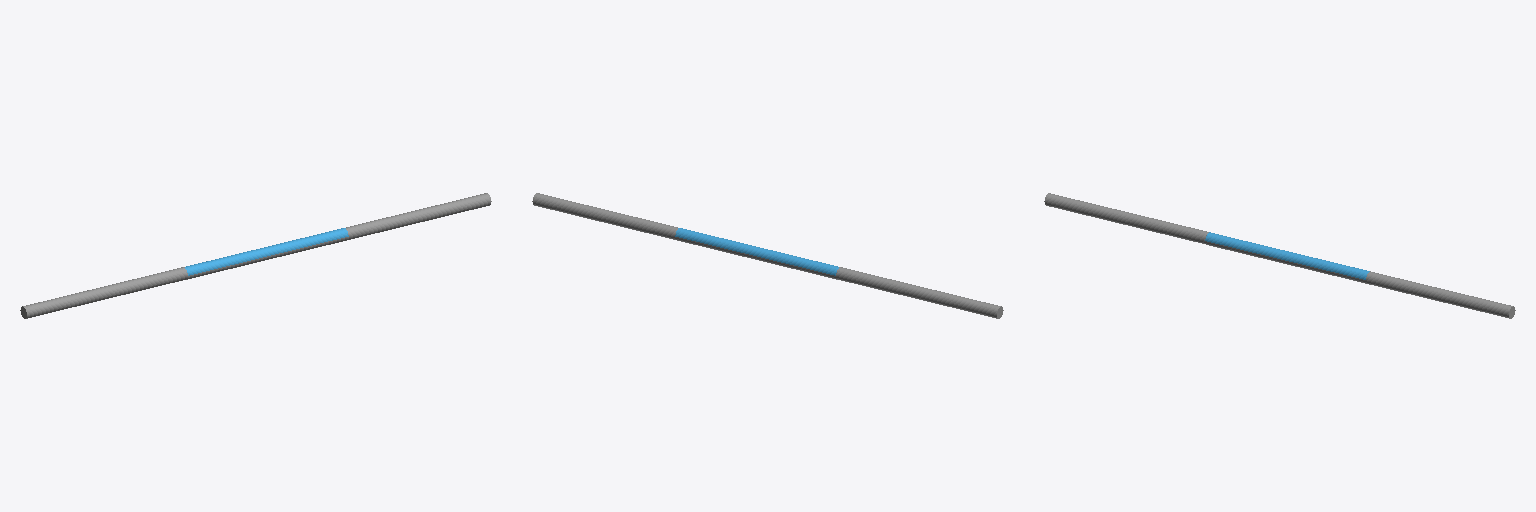
The robot description file, URDF, robot "duplicate_but_same_materials":
<?xml version="1.0" ?>

<!--
Defines a URDF model in which two links have the same material definition. This
should NOT be a problem.
-->

<robot name="duplicate_but_same_materials" xmlns:xacro="http://ros.org/wiki/xacro">
  <link name="link1">
    <inertial>
      <mass value="0.00001"/>
      <inertia ixx="0.00001" ixy="0" ixz="0" iyy="0.00001" iyz="0" izz="0.00001"/>
    </inertial>
    <visual>
      <origin rpy="0 1.57 0" xyz=".01429 0 0"/>
      <geometry>
        <cylinder length=".02858" radius="0.001"/>
      </geometry>
      <material name="foo_color">
        <color rgba=".6353 .6353 .6353 1"/>
      </material>
    </visual>
    <visual>
      <origin rpy="0 1.57 0" xyz=".01429 0 0"/>
      <geometry>
        <cylinder length=".02858" radius="0.001"/>
      </geometry>
      <material name="bar_material">
        <texture filename="bar.png"/>
      </material>
    </visual>
    <visual>
      <origin rpy="0 1.57 0" xyz=".01429 0 0"/>
      <geometry>
        <cylinder length=".02858" radius="0.001"/>
      </geometry>
      <material name="foobar_material">
        <color rgba=".6353 .6353 .6353 1"/>
        <texture filename="foobar.png"/>
      </material>
    </visual>
  </link>

  <link name="link2">
    <inertial>
      <mass value="0.00001"/>
      <inertia ixx="0.00001" ixy="0" ixz="0" iyy="0.00001" iyz="0" izz="0.00001"/>
    </inertial>
    <visual>
      <origin rpy="0 1.57 0" xyz=".02699 0 0"/>
      <geometry>
        <cylinder length=".05398" radius="0.001"/>
      </geometry>
      <material name="foo_color">
        <color rgba=".6353 .6353 .6353 1"/>
      </material>
    </visual>
    <visual>
      <origin rpy="0 1.57 0" xyz=".01429 0 0"/>
      <geometry>
        <cylinder length=".02858" radius="0.001"/>
      </geometry>
      <material name="bar_material">
        <texture filename="bar.png"/>
      </material>
    </visual>
    <visual>
      <origin rpy="0 1.57 0" xyz=".01429 0 0"/>
      <geometry>
        <cylinder length=".02858" radius="0.001"/>
      </geometry>
      <material name="foobar_material">
        <color rgba=".6353 .6353 .6353 1"/>
        <texture filename="foobar.png"/>
      </material>
    </visual>
  </link>

  <joint name="joint1" type="continuous">
    <axis xyz="0 0 1"/>
    <parent link="link1"/>
    <child link="link2"/>
    <origin rpy="0 0 0" xyz=".02858 0 0"/>
    <limit effort="100" lower="1.092" upper="1.940" velocity="100"/>
  </joint>
</robot>

--- What the picture shows (computed from the rendered views, not written in the file) ---
3 views of the same robot in one strip: view 1: azimuth 30°, elevation 25°; view 2: azimuth 150°, elevation 25°; view 3: azimuth 330°, elevation 25° (orthographic).
Model duplicate_but_same_materials with 2 links and 1 joints (1 continuous), rooted at link1, posed all joints at 0.
Visible links, largest first — view 1: link2, link1; view 2: link2, link1; view 3: link2, link1.
Boxes of the visible links, x1,y1,x2,y2 form: link2: (185,193,491,279); link1: (20,267,187,318); link2: (532,193,838,279); link1: (836,267,1003,318); link2: (1205,232,1515,318); link1: (1044,193,1208,243).
Size in the robot's own frame: 0.0826 by 0.002 by 0.002 metres.
Geometry: primitives only (box / cylinder / sphere), no mesh files.
